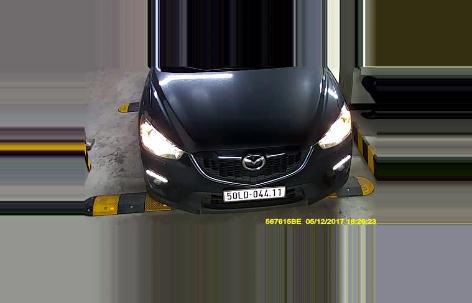License_Plate: (224, 183, 286, 201)
